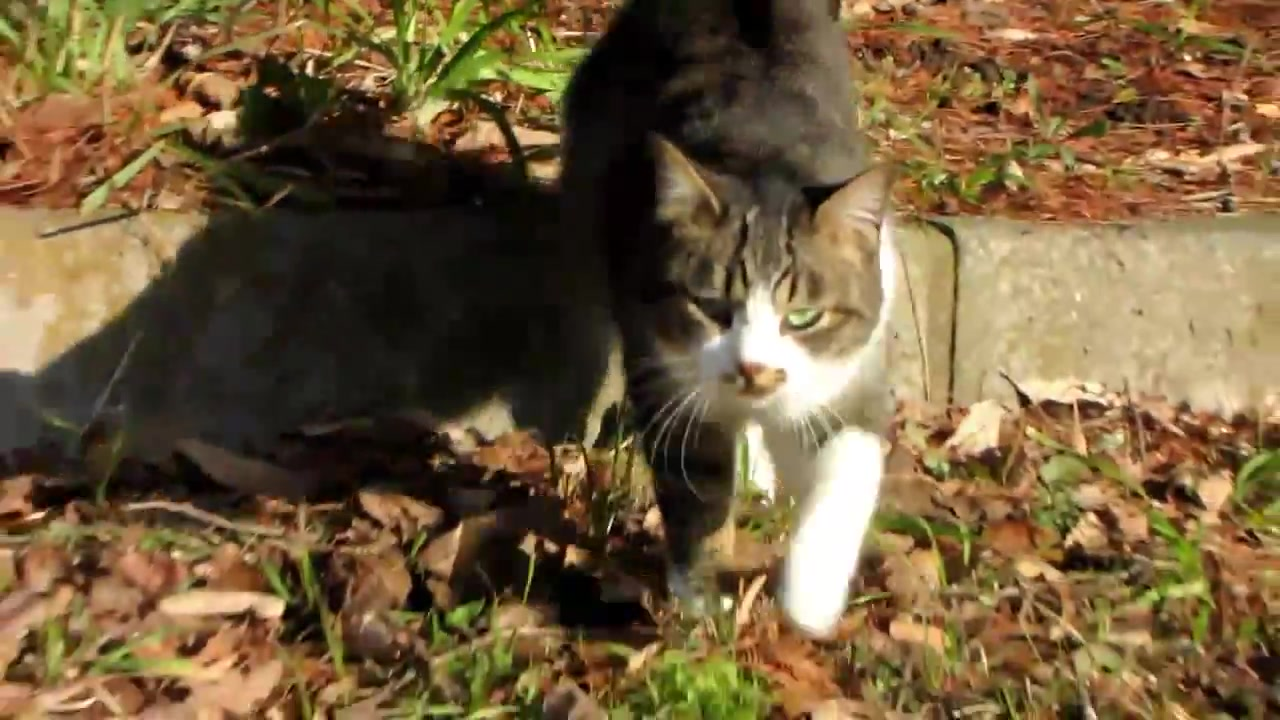cat: (556, 4, 896, 647)
